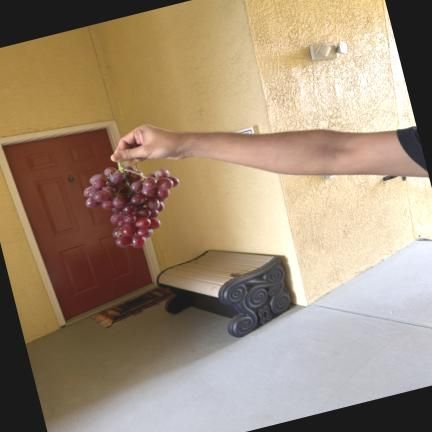grape_cluster: (83, 161, 179, 248)
